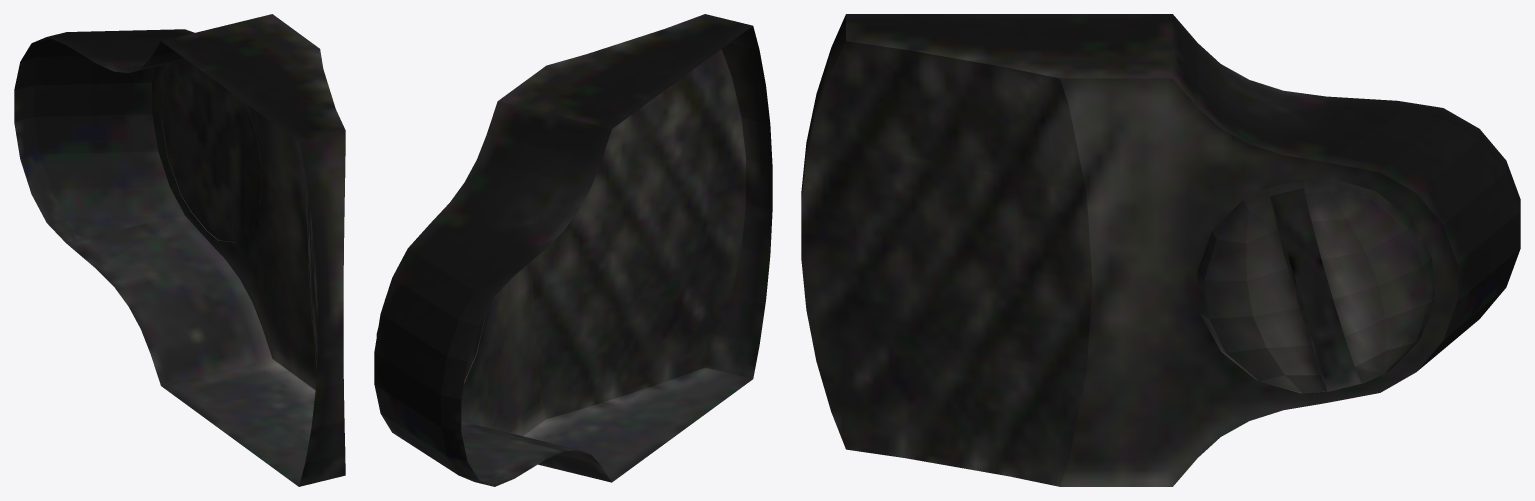
3 renders of one model, left to right at view 1: azimuth 30°, elevation 25°; view 2: azimuth 150°, elevation 25°; view 3: azimuth 270°, elevation 25°, orthographic. The views are drawn at different scales.
Parts seen in each view (by area): view 1: TW_60db29ce99594040e04c4a27_PZ_Import; view 2: TW_60db29ce99594040e04c4a27_PZ_Import; view 3: TW_60db29ce99594040e04c4a27_PZ_Import.
Boxes of the visible parts, x1,y1,x2,y2 form: TW_60db29ce99594040e04c4a27_PZ_Import: (14,14,345,486); TW_60db29ce99594040e04c4a27_PZ_Import: (374,14,772,486); TW_60db29ce99594040e04c4a27_PZ_Import: (801,14,1520,486).
Size of the model in its own units: 0.00288 by 0.0106 by 0.00663.
1 material, 1 textured.
